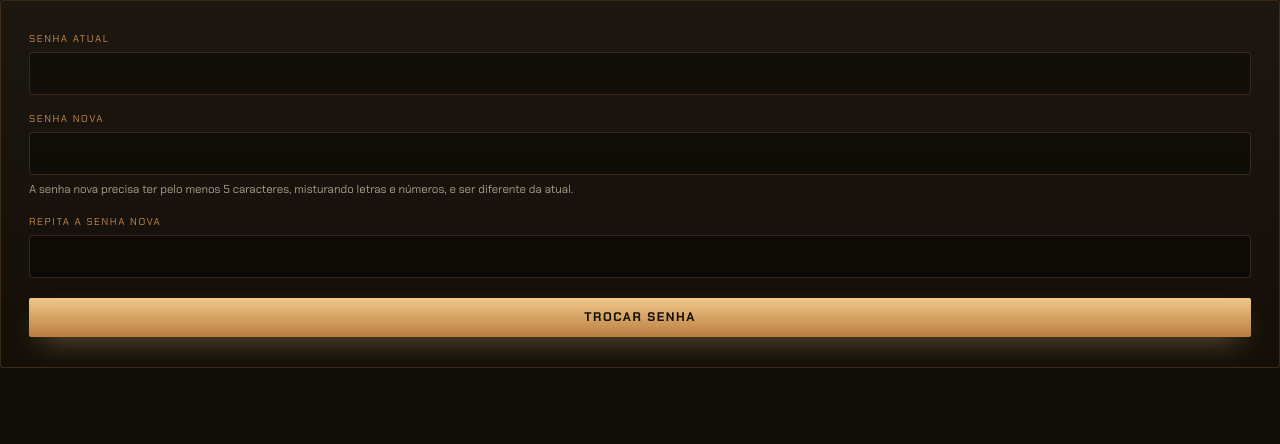
Test: a regra da senha é dita antes, e conferida antes de enviar › curta: avisa sem ir ao servidor
The width and height of the screenshot is (1280, 444).
Type "k7wm-3qfa-x9pe" into the password field labelled "SENHA ATUAL". click: [640, 74]
box: [29,52,1251,95]
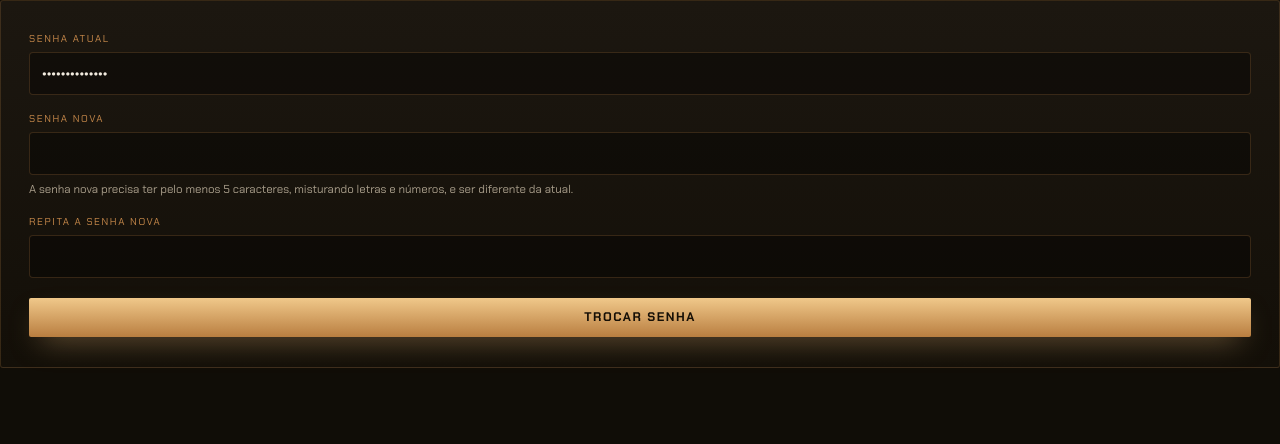
Type "ab12" into the password field labelled "SENHA NOVA". click: [640, 154]
box: [29,132,1251,175]
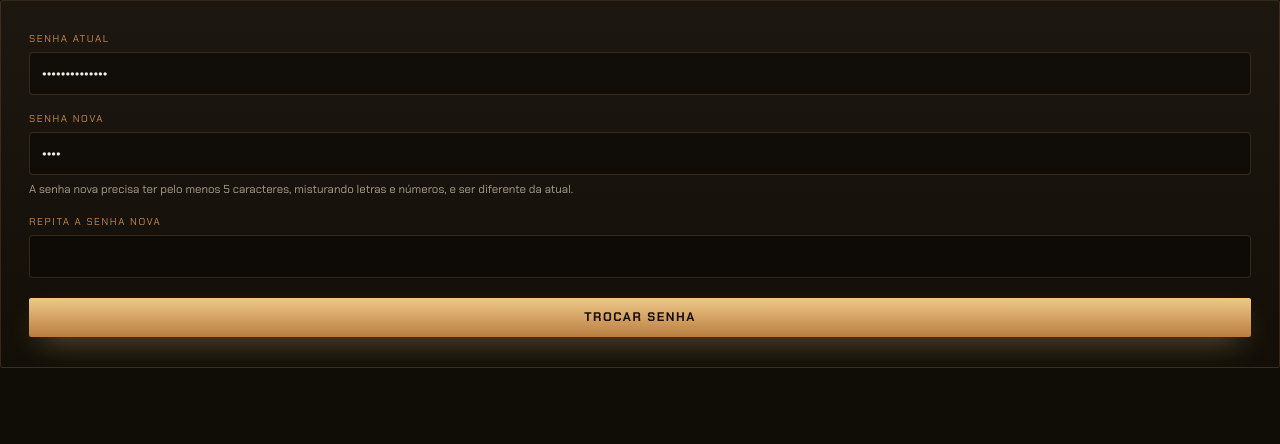
Type "ab12" into the password field labelled "REPITA A SENHA NOVA". click: [640, 257]
box: [29,235,1251,278]
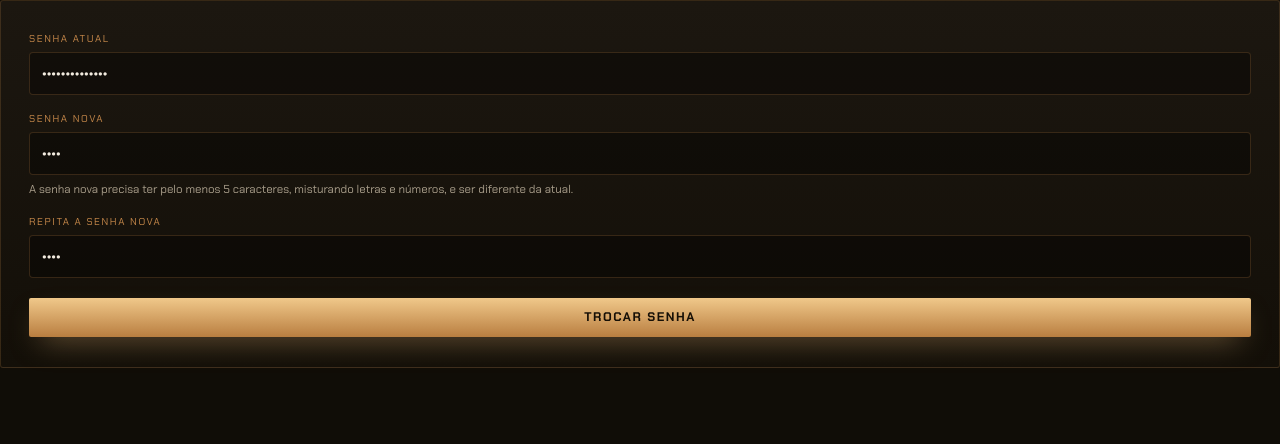
Click the button "TROCAR SENHA". click: [640, 318]
box: [29,298,1251,337]
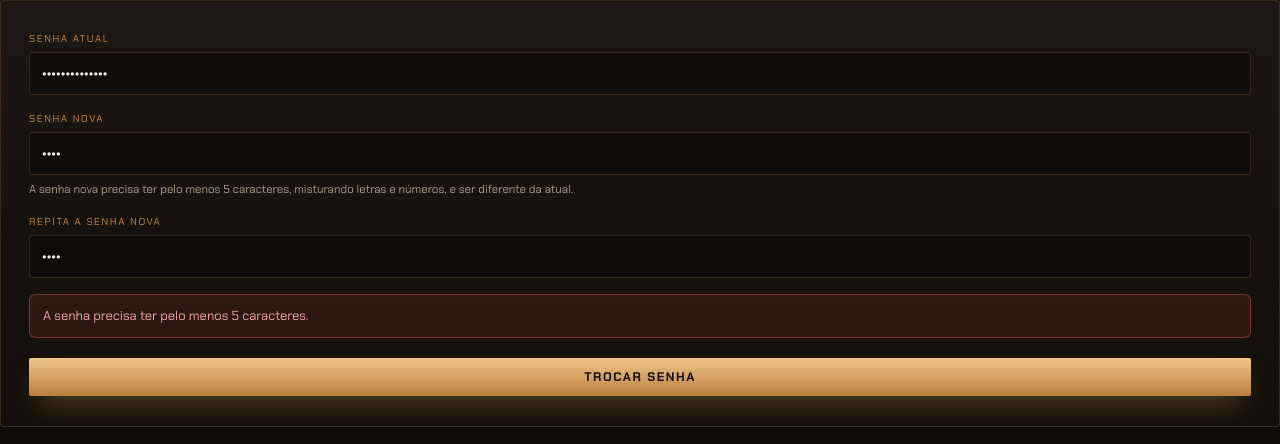
Check: the message reads "A senha precisa ter pelo menos 5 caracteres.", box [43,307,308,324]
